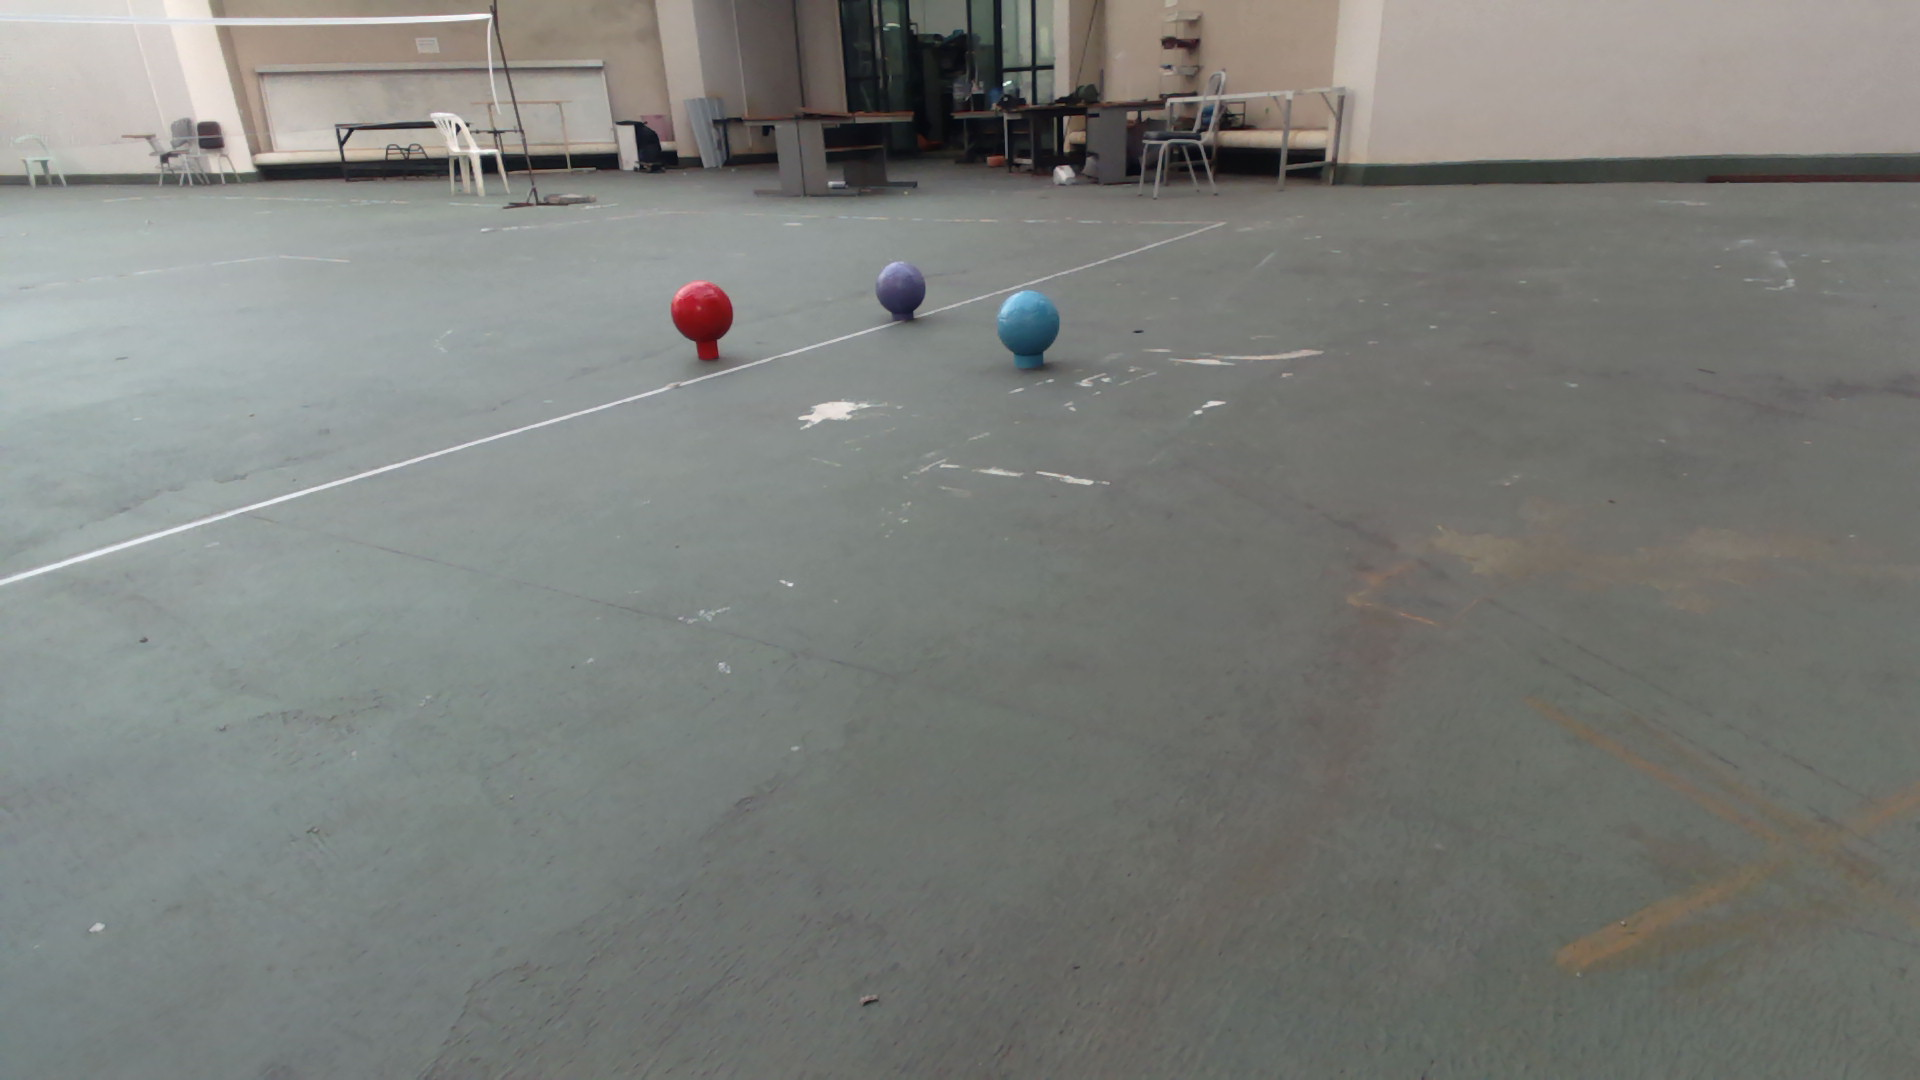Blue ball: (994, 287, 1062, 357)
Purple ball: (874, 258, 927, 315)
Red ball: (669, 278, 735, 345)
